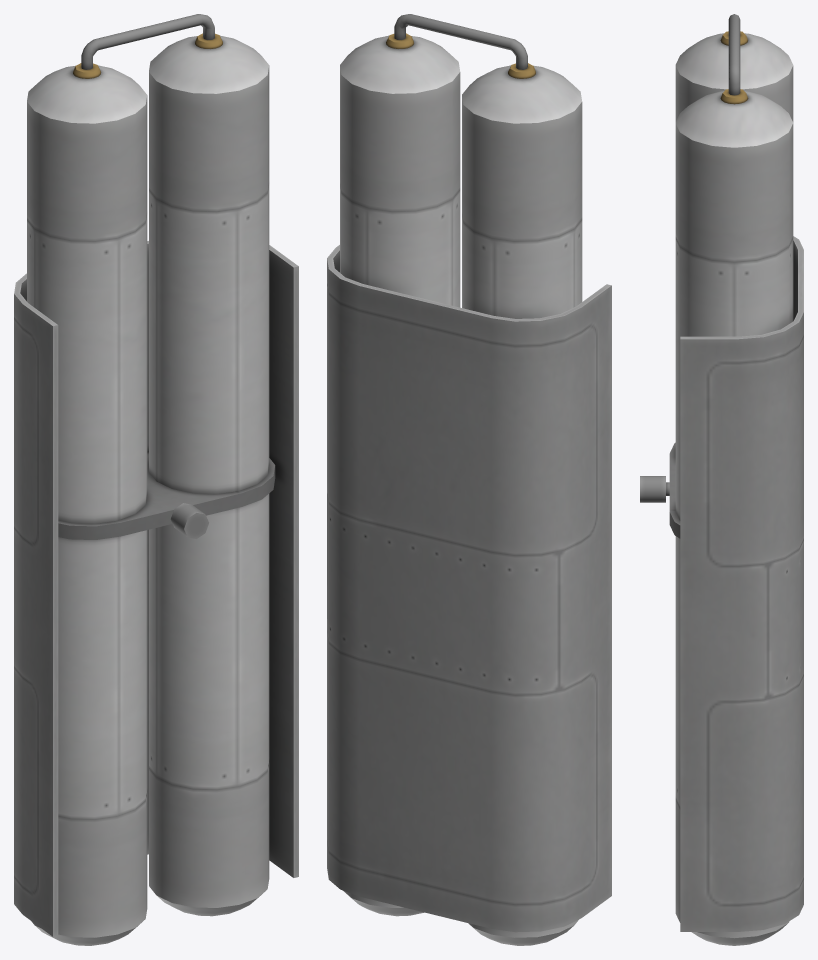
File: Alniyat_MonoDouble_2_2.obj
3 renders of one model, left to right at view 1: azimuth 30°, elevation 25°; view 2: azimuth 150°, elevation 25°; view 3: azimuth 270°, elevation 25°, orthographic. The views are drawn at different scales.
Visible parts, largest first — view 1: Alniyat_MonoDouble_2_2; view 2: Alniyat_MonoDouble_2_2; view 3: Alniyat_MonoDouble_2_2.
Part boxes in pixels (<box>): Alniyat_MonoDouble_2_2: <box>14,14,298,945</box>; Alniyat_MonoDouble_2_2: <box>327,14,611,945</box>; Alniyat_MonoDouble_2_2: <box>640,14,803,945</box>.
Bounding box in the file's own units: 0.5845 × 2.04 × 0.3473.
